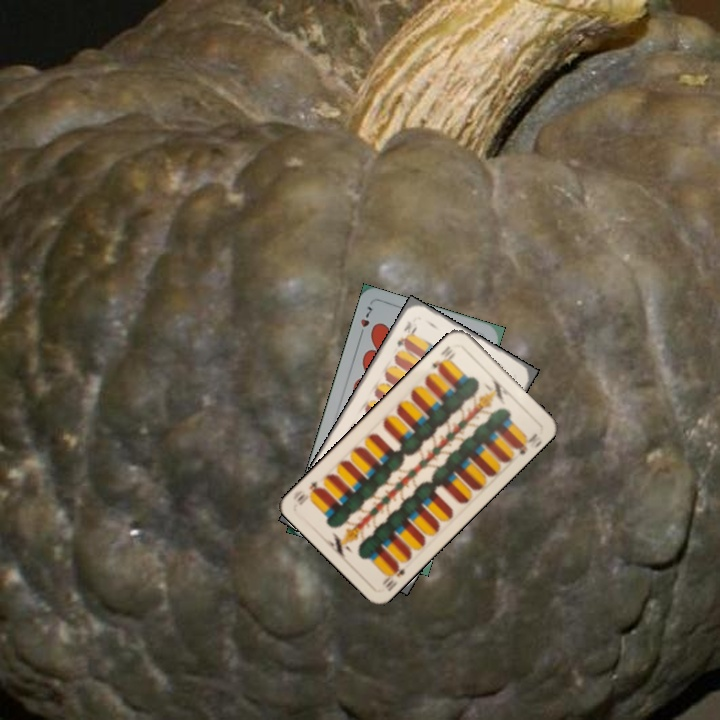E10: (378, 559, 408, 594), (428, 342, 458, 374), (393, 317, 418, 350)
H7: (355, 302, 375, 341)
